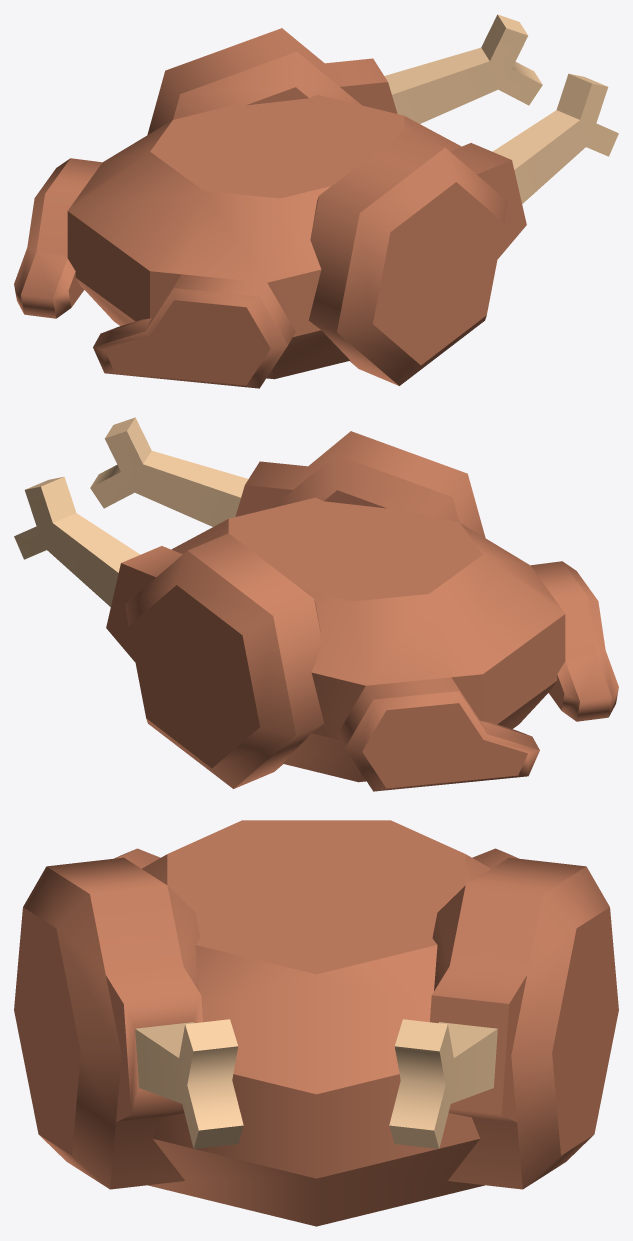
The model's file is turkey.fbx.
The picture shows the model from 3 angles, top to bottom: view 1: azimuth 30°, elevation 25°; view 2: azimuth 150°, elevation 25°; view 3: azimuth 270°, elevation 25°; orthographic projection. The views are drawn at different scales.
Parts seen in each view (by area): view 1: turkey, leg (×2); view 2: turkey, leg (×2); view 3: leg (×2), turkey.
Part boxes in pixels (x1,y1,x2,y2): turkey: (14, 94, 461, 388); leg (×2): (147, 14, 618, 385); turkey: (171, 497, 618, 791); leg (×2): (14, 417, 485, 788); leg (×2): (14, 857, 618, 1189); turkey: (114, 820, 518, 1226).
Bounding box in the file's own units: 9.35 × 3.77 × 6.79.
